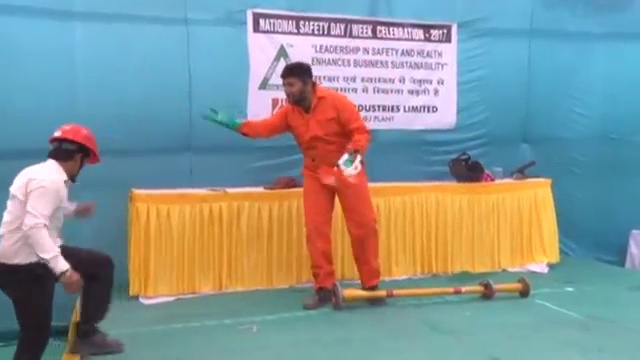helmet: (47, 122, 100, 162)
helmet_off: (281, 62, 316, 106)
helmet_on: (46, 121, 101, 182)
person: (222, 64, 387, 309), (1, 117, 114, 360)
